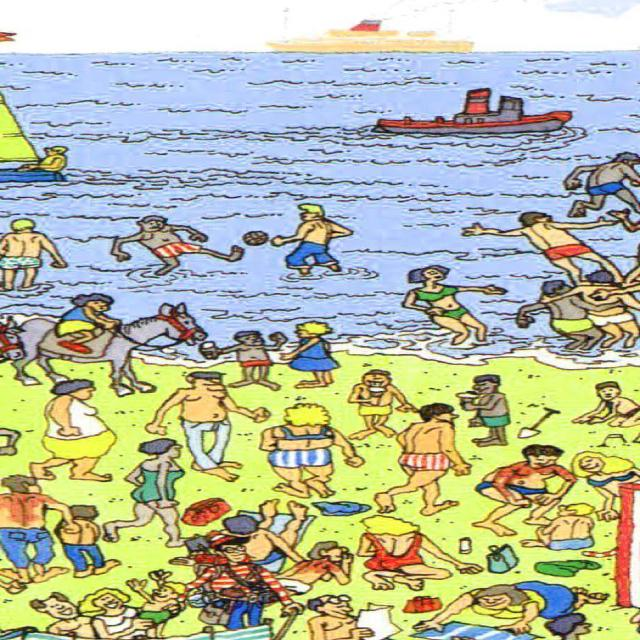waldo: (208, 530, 251, 562)
